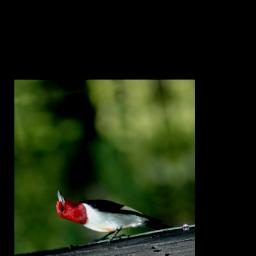Woodpecker: (53, 173, 179, 255)
